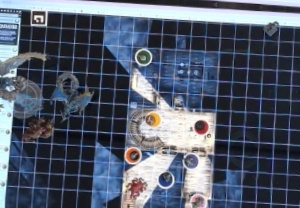blue: (157, 169, 176, 190)
green: (130, 46, 154, 68)
orange: (123, 144, 143, 164)
pink: (186, 190, 212, 208)
red: (191, 117, 211, 139)
violet: (181, 149, 201, 169)
yellow: (143, 107, 164, 128)
